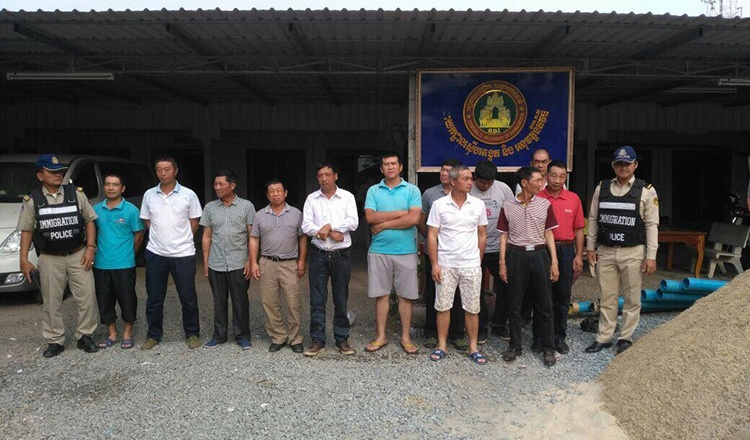blue: (611, 143, 637, 181), (33, 155, 62, 189)
none: (152, 154, 180, 184), (211, 168, 237, 199), (448, 163, 473, 195), (515, 165, 542, 194), (543, 160, 567, 191), (378, 149, 403, 178), (263, 177, 288, 205), (102, 170, 125, 199), (474, 159, 496, 189), (314, 162, 338, 189), (528, 146, 551, 174), (438, 158, 459, 185)
